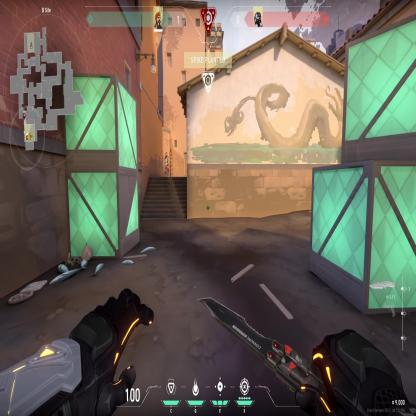enemy: (163, 151, 170, 178)
